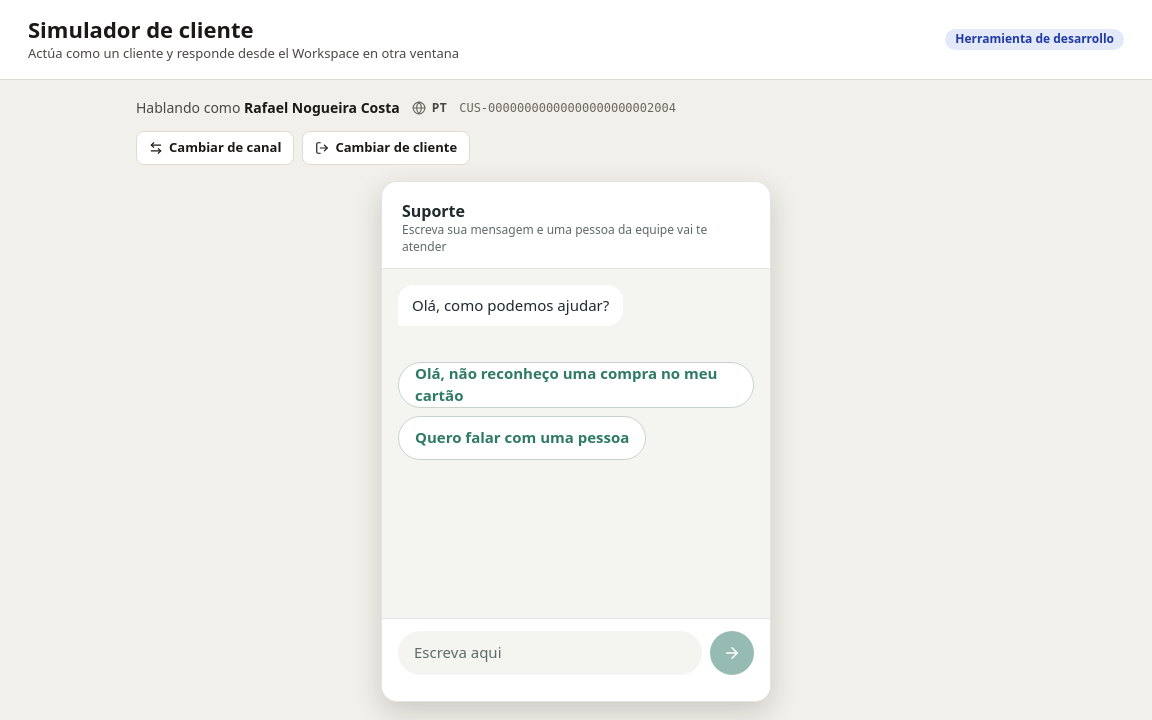
Scenario: CustomerSimulatorScreen · chat › restores the session after a reload and chats live over its own socket
The width and height of the screenshot is (1152, 720).
Expected: the text "Hablando como" is shown, [136,98,244,117]
Expected: the text "Suporte" is shown, [402,200,465,222]
Opener chip prefills the input.
Click the button "Olá, não reconheço uma compra no meu cartão" at (576, 385), box [398,362,754,408]
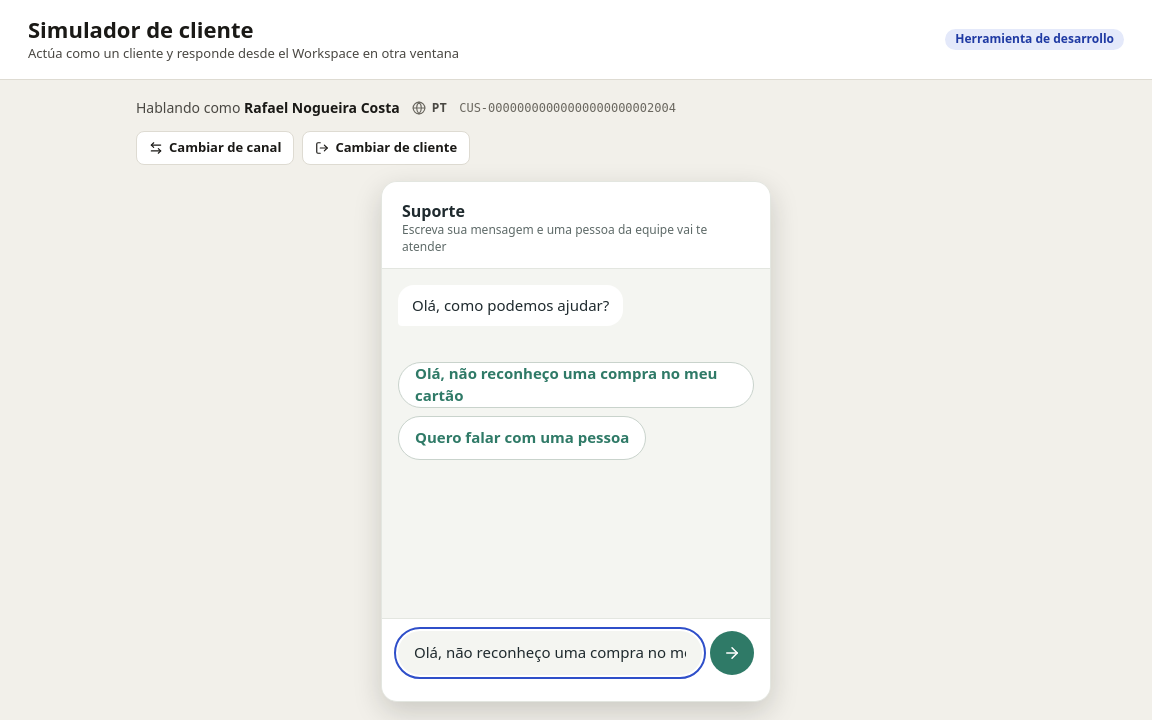
Now the field named "Escreva sua mensagem" holds "Olá, não reconheço uma compra no meu cartão", box [398,631,702,675]
Click the button named "Enviar" at (732, 653), box [710,631,754,675]
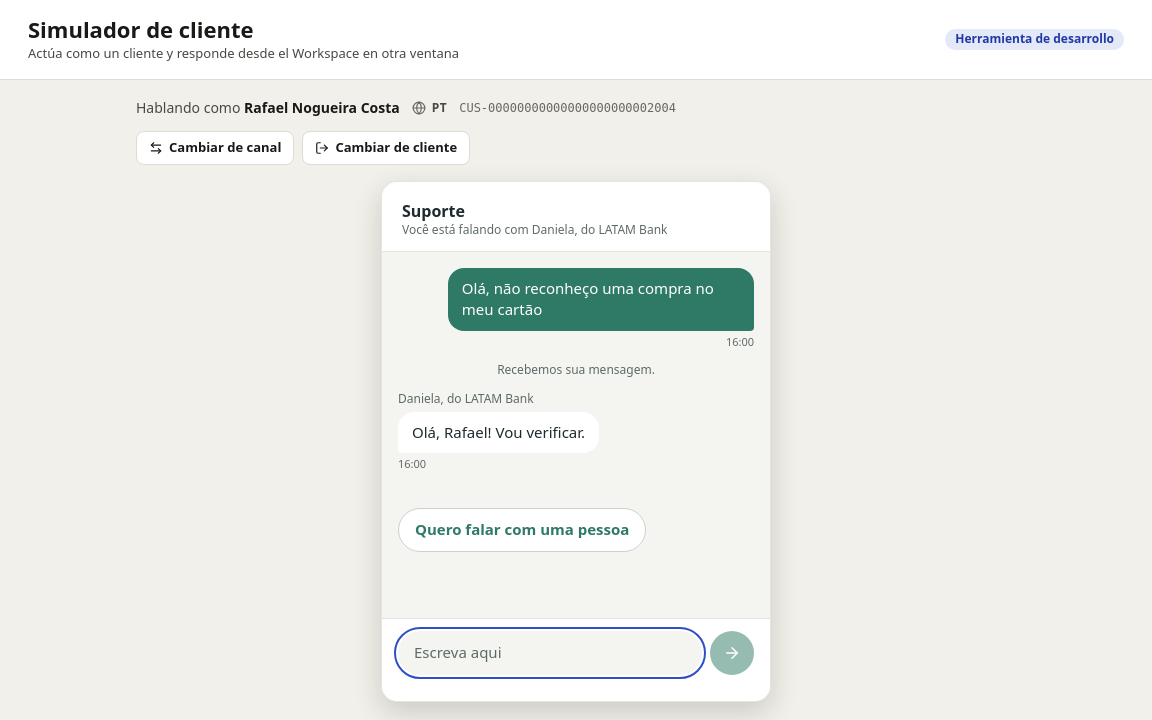
Now the field named "Escreva sua mensagem" is empty, box [398,631,702,675]
Now the 1st text "Enviando…" is shown, box [726,335,754,350]
Now the text "Olá, Rafael! Vou verificar." is shown, box [398,412,599,454]
